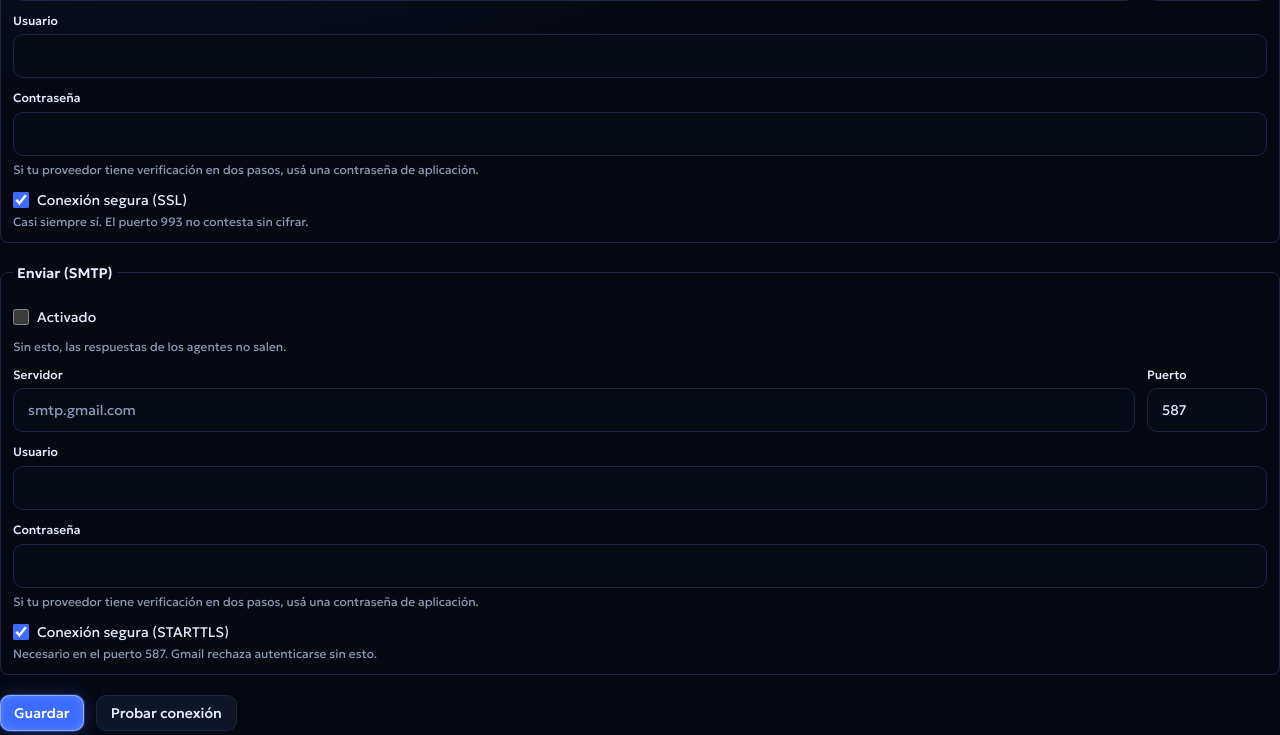
Test case: EmailTransportPanel, testing the connection › says so when both sides connect
The image size is (1280, 735).
(page scrolled)
Click the button "Probar conexión" at (166, 713), box [96,695,237,731]
(page scrolled)
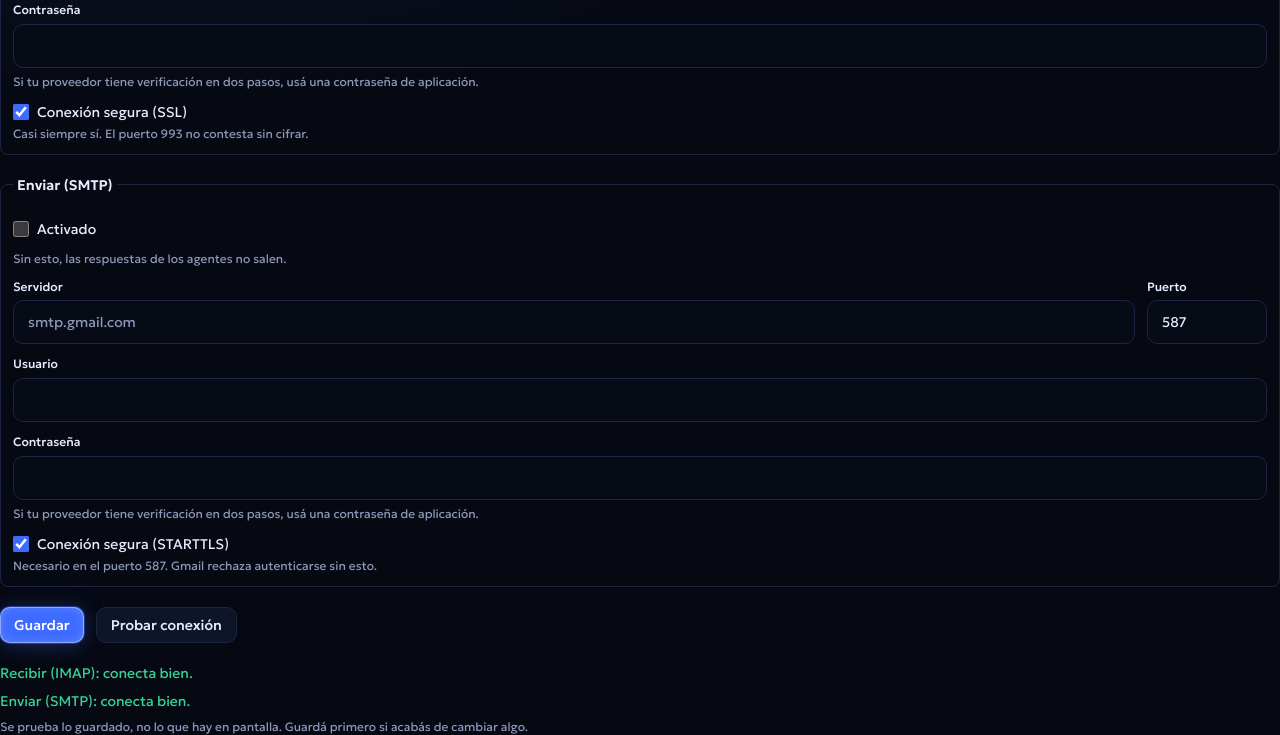
Now the text "Recibir (IMAP): conecta bien." is shown, box [0,664,193,682]
Now the text "Enviar (SMTP): conecta bien." is shown, box [0,692,190,710]
